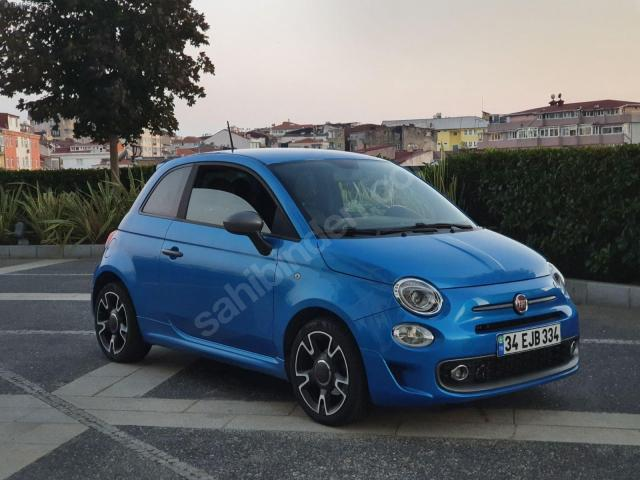plaka: (497, 323, 561, 355)
